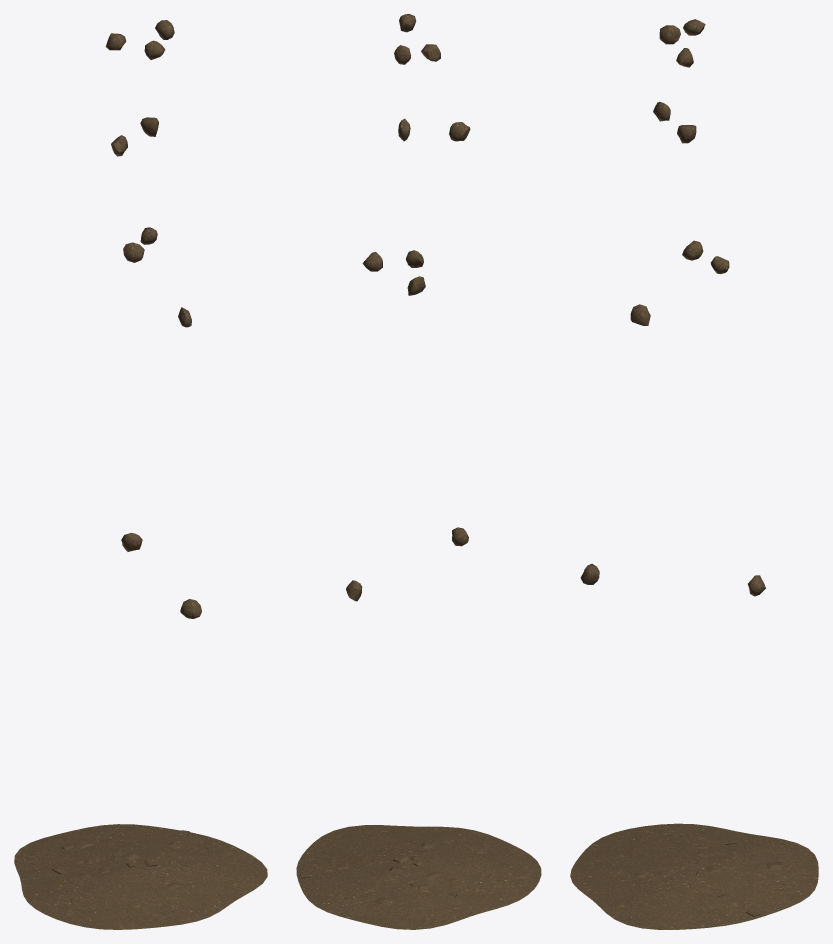
The model's file is TER-SOL-004_anim.glb.
3 renders of one model, left to right at view 1: azimuth 30°, elevation 25°; view 2: azimuth 150°, elevation 25°; view 3: azimuth 270°, elevation 25°, orthographic.
Parts seen in each view (by area): view 1: TER-SOL-004_anim_monte; view 2: TER-SOL-004_anim_monte; view 3: TER-SOL-004_anim_monte.
Boxes of the visible parts, x1,y1,x2,y2 form: TER-SOL-004_anim_monte: (14, 824, 267, 929); TER-SOL-004_anim_monte: (296, 825, 541, 929); TER-SOL-004_anim_monte: (570, 823, 818, 929).
Size of the model in its own units: 0.4457 by 1.68 by 0.4403.
Materials: 1 (1 with a texture image).
